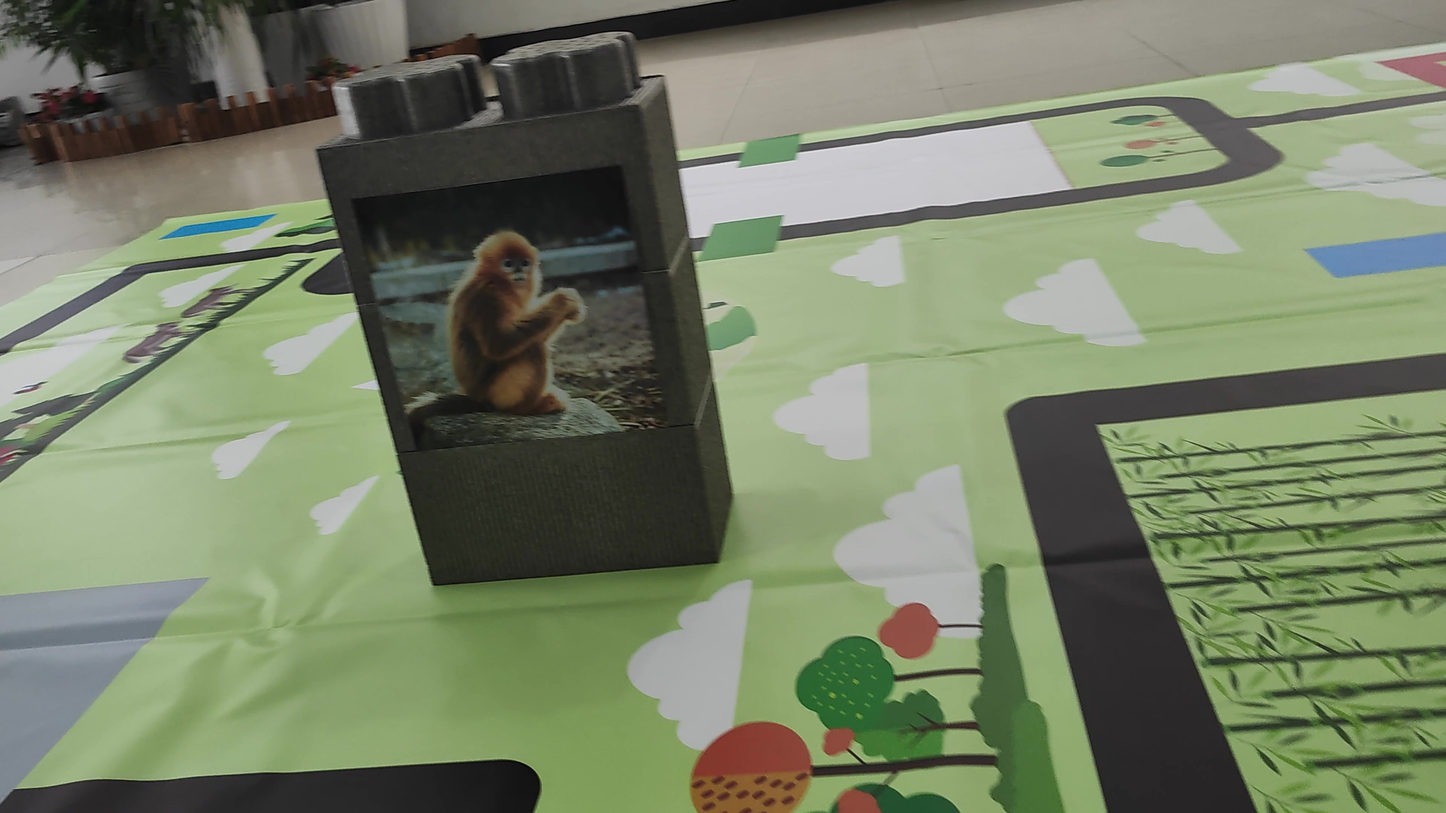monkey: (389, 212, 610, 443)
